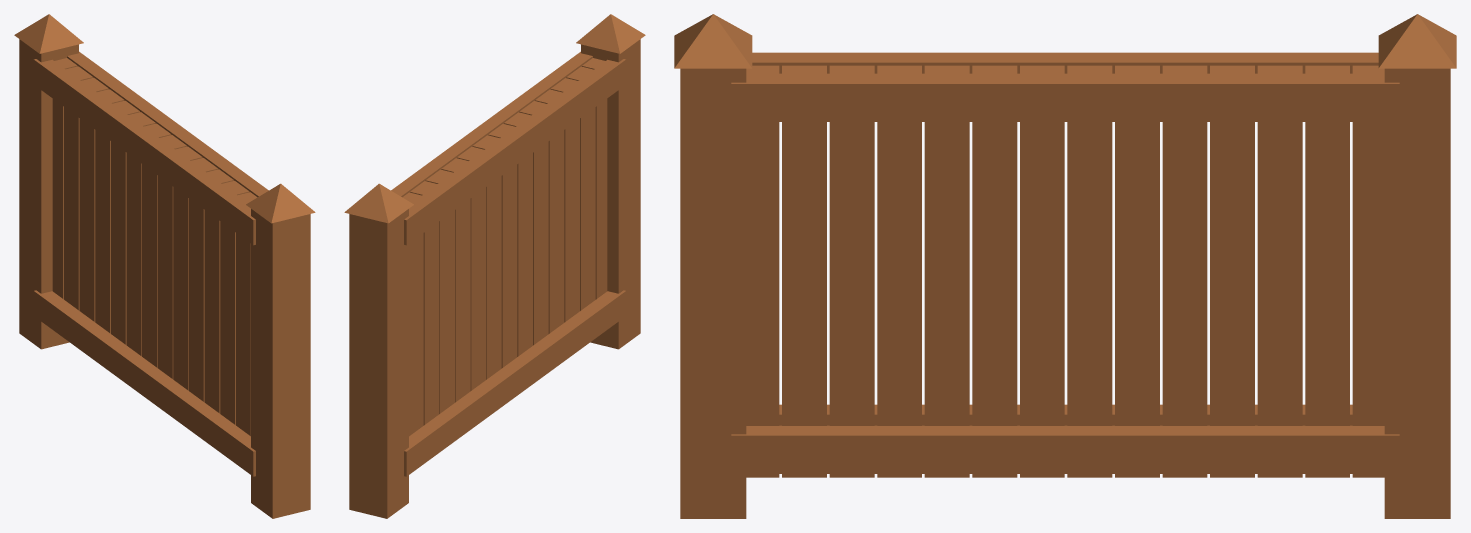
Rendered from prop.privacy-fence.lod2.glb.
3 renders of one model, left to right at view 1: azimuth 30°, elevation 25°; view 2: azimuth 150°, elevation 25°; view 3: azimuth 270°, elevation 25°, orthographic. The views are drawn at different scales.
Parts seen in each view (by area): view 1: body; view 2: body; view 3: body.
Boxes of the visible parts, x1,y1,x2,y2 form: body: (14, 14, 315, 518); body: (344, 14, 645, 518); body: (674, 14, 1456, 518).
Size of the model in its own units: 0.26 by 1.8 by 2.6.
